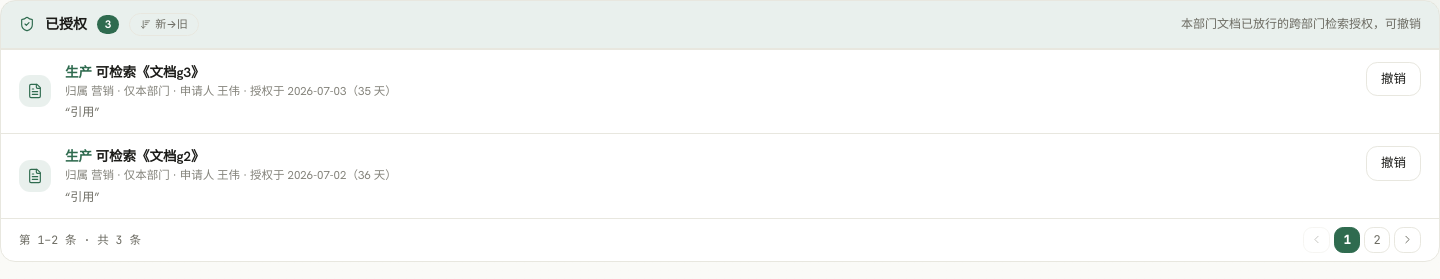
Test case: AccessGrantList › 排序切换 → 旧→新 + 回第 1 页；单页不显翻页脚
Click the button named "下一页": {"x": 1408, "y": 240} [1394, 226, 1421, 252]
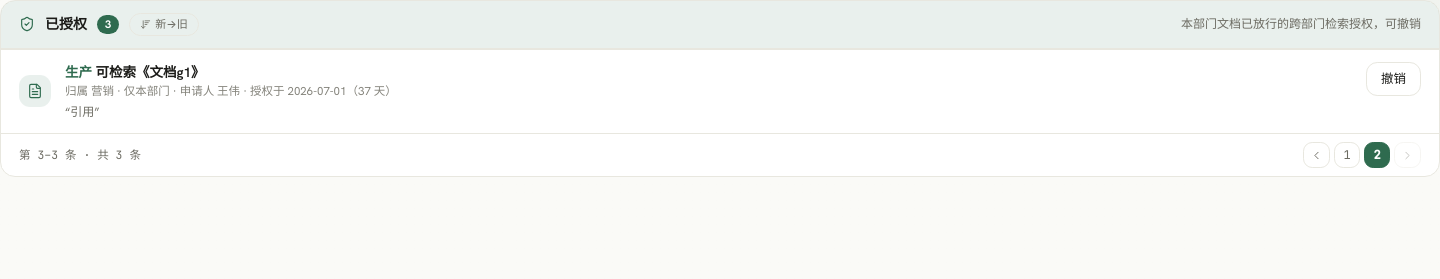
Click the button with test id "queue-sort": {"x": 164, "y": 24} [129, 13, 199, 36]
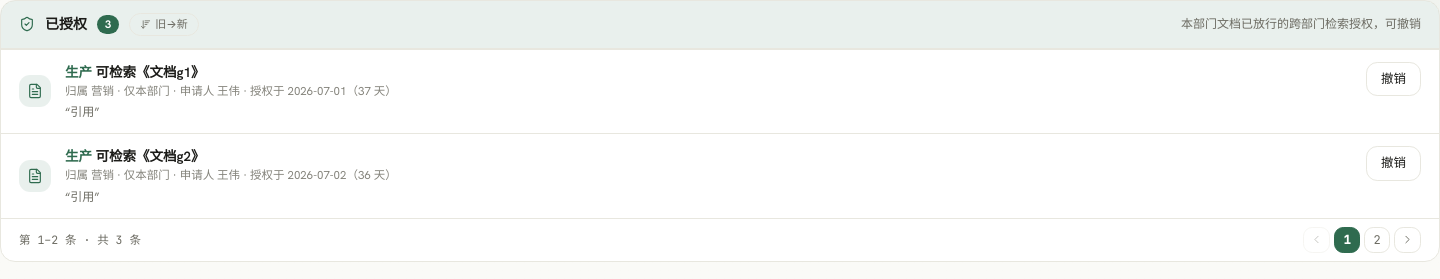
Now the text "文档g1" is shown, box [92, 62, 205, 80]
Now the button with test id "queue-sort" reads "旧→新", box [129, 13, 199, 36]
Now the text "文档g2" is shown, box [92, 147, 205, 165]
